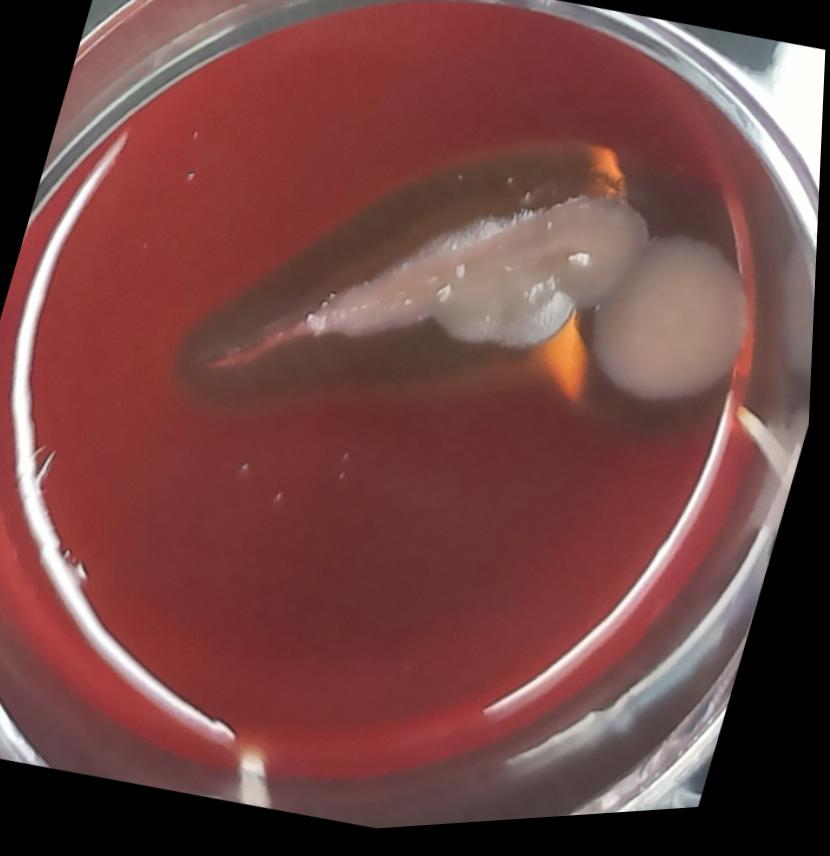bcereus: (549, 194, 795, 464)
